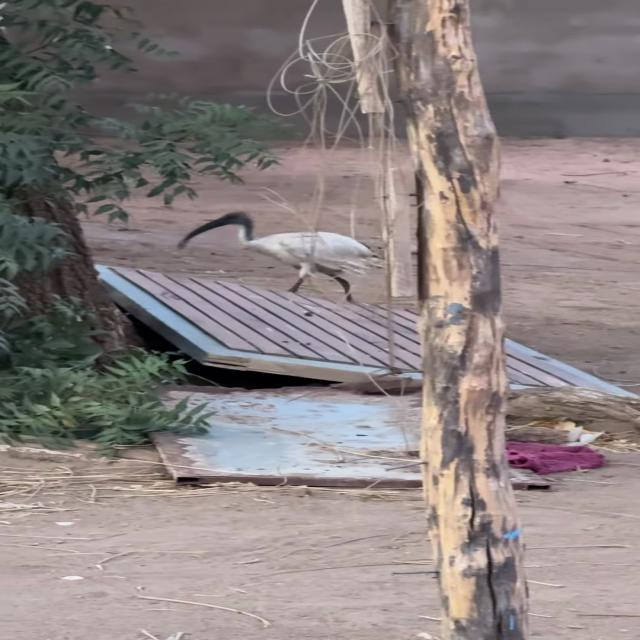Birds-Ibis: (170, 206, 388, 307)
